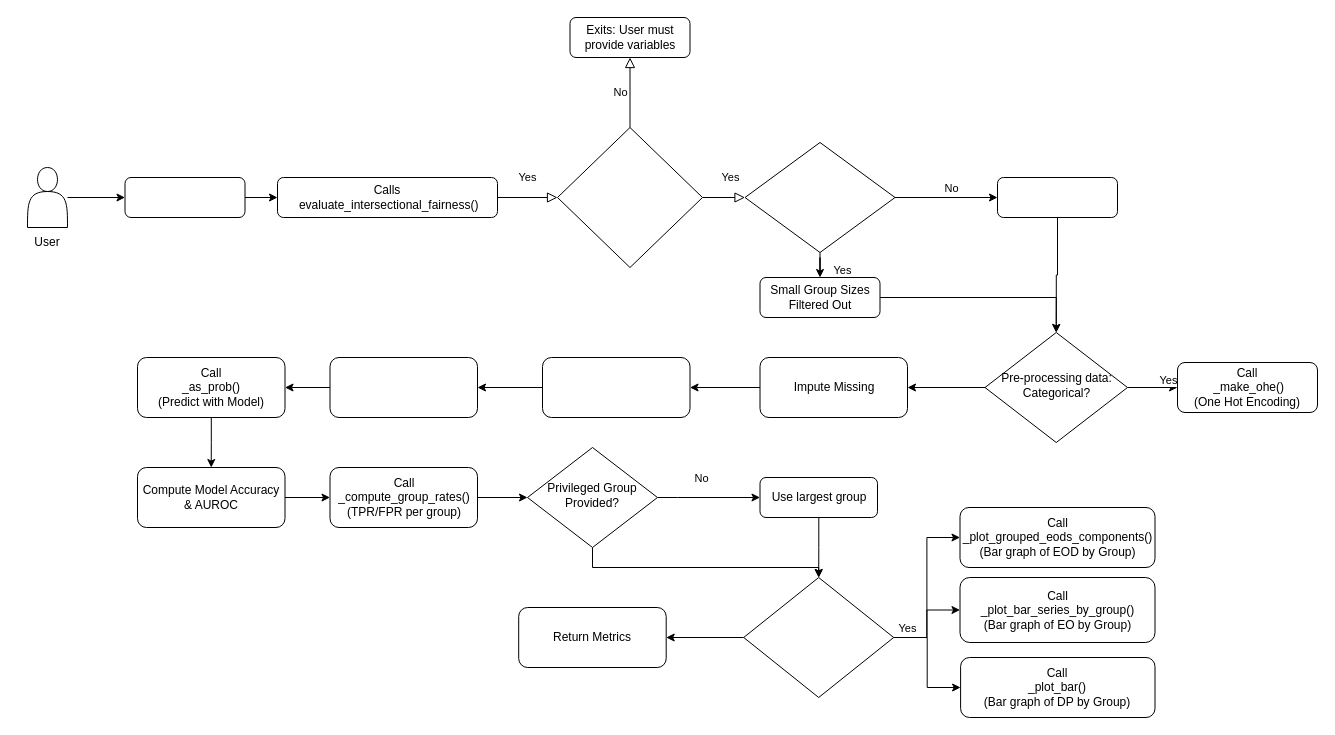
Image size: 1335x735. Some labels were removed from this diagram. The shapes that lost their labels are listed below. From the top down, each one's box as (x1, y1, x2, y2) in pixels, then its label:
(124, 176, 245, 218): Develops biased model
(556, 126, 702, 268): Protected Characteristics, and Outcome provided?
(744, 142, 895, 252): Minimum Group Size provided?
(996, 176, 1118, 218): All Groups Included in Model
(329, 356, 478, 418): Split Data and Train Model
(542, 356, 690, 418): Call _get_model() (Get Model Type and Parameters)
(743, 576, 894, 698): make_plots: True
